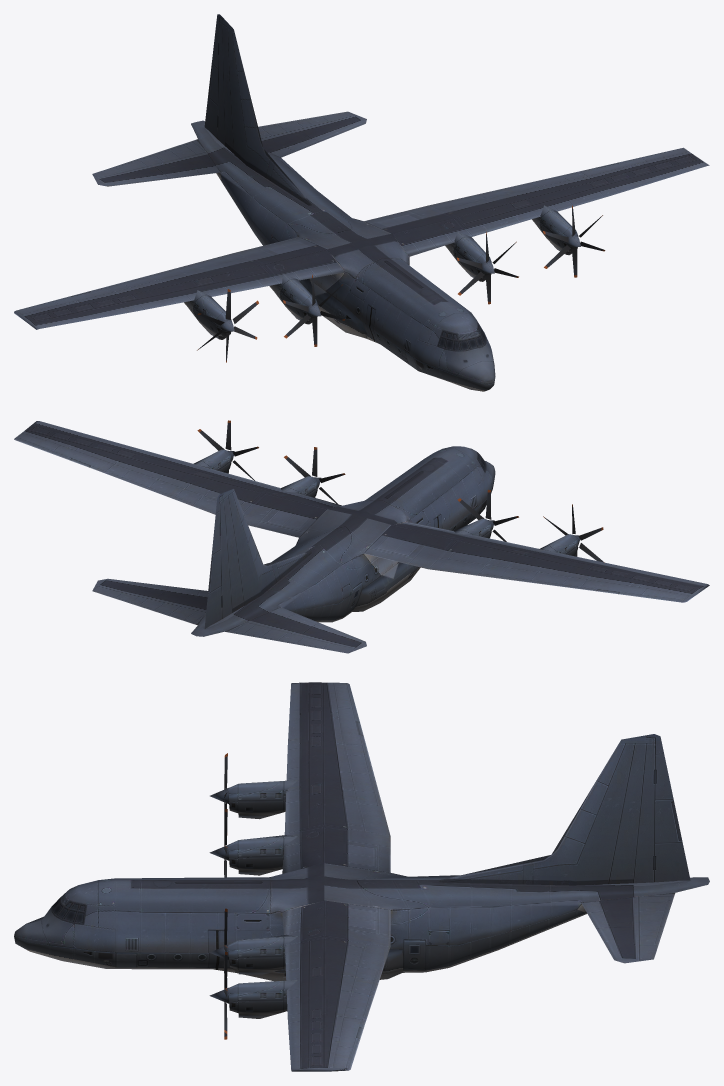
Rendered from Avião free Fire.glb.
3 views of the same model, one above another, from view 1: azimuth 30°, elevation 25°; view 2: azimuth 150°, elevation 25°; view 3: azimuth 270°, elevation 25° (orthographic). The views are drawn at different scales.
Parts seen in each view (by area): view 1: main_body_1_LOD0, airscrew01b_LOD0, airscrew01d_LOD0, airscrew01a_LOD0, airscrew01c_LOD0; view 2: main_body_1_LOD0, airscrew01c_LOD0, airscrew01d_LOD0, airscrew01b_LOD0, airscrew01a_LOD0; view 3: main_body_1_LOD0.
Part boxes in pixels (left/top/right/bottom): main_body_1_LOD0: left=14, top=14, right=709, bottom=391; airscrew01b_LOD0: left=283, top=274, right=345, bottom=346; airscrew01d_LOD0: left=543, top=205, right=605, bottom=277; airscrew01a_LOD0: left=197, top=289, right=258, bottom=362; airscrew01c_LOD0: left=457, top=231, right=518, bottom=304; main_body_1_LOD0: left=14, top=421, right=709, bottom=653; airscrew01c_LOD0: left=284, top=447, right=345, bottom=504; airscrew01d_LOD0: left=197, top=420, right=258, bottom=480; airscrew01b_LOD0: left=457, top=489, right=518, bottom=541; airscrew01a_LOD0: left=543, top=504, right=604, bottom=562; main_body_1_LOD0: left=14, top=682, right=709, bottom=1071.
Size of the model in its own units: 39.5 by 11.17 by 29.9.
Materials: 2 (2 with a texture image).
